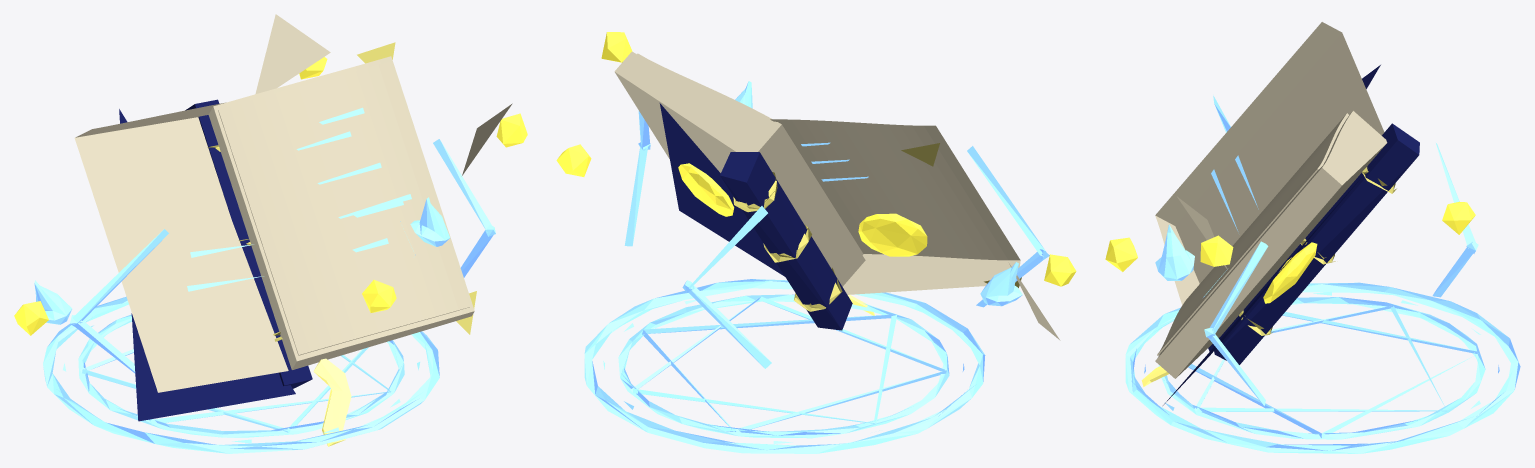
The model's file is tome_8.glb.
3 renders of one model, left to right at view 1: azimuth 30°, elevation 25°; view 2: azimuth 150°, elevation 25°; view 3: azimuth 270°, elevation 25°, orthographic.
Visible parts, largest first — view 1: Page__022, CoverL__002, CoverR__011, Circle__033, CoverL__001, Circle__034, Book__026, Orbit__050, Circle__035, Orbit__054, Book__032, Orbit__053 (+6 smaller); view 2: CoverL__002, CoverR__011, Circle__033, Book__026, Circle__034, Circle__035, CoverR__010, CoverL__030, Orbit__055, Orbit__054, CoverR__031, Orbit__053 (+5 smaller); view 3: CoverL__002, CoverR__011, Book__026, Circle__033, Circle__034, Page__022, Circle__035, Orbit__053, Orbit__051, CoverR__031, Orbit__055, Orbit__056 (+4 smaller).
Boxes of the visible parts, <box> form: Page__022: <box>218,61,470,355</box>; CoverL__002: <box>74,102,288,392</box>; CoverR__011: <box>208,56,474,369</box>; Circle__033: <box>43,296,439,453</box>; CoverL__001: <box>119,109,295,421</box>; Circle__034: <box>78,314,404,437</box>; Book__026: <box>185,99,312,388</box>; Orbit__050: <box>255,14,330,94</box>; Circle__035: <box>80,347,390,432</box>; Orbit__054: <box>70,229,168,373</box>; Book__032: <box>313,358,351,446</box>; Orbit__053: <box>433,139,495,277</box>; CoverL__002: <box>770,119,1020,294</box>; CoverR__011: <box>614,51,865,286</box>; Circle__033: <box>584,279,985,453</box>; Book__026: <box>720,152,852,330</box>; Circle__034: <box>618,294,949,438</box>; Circle__035: <box>630,296,946,433</box>; CoverR__010: <box>659,103,784,276</box>; CoverL__030: <box>858,213,927,256</box>; Orbit__055: <box>682,206,771,368</box>; Orbit__054: <box>967,146,1049,307</box>; CoverR__031: <box>678,163,734,216</box>; Orbit__053: <box>624,110,650,246</box>; CoverL__002: <box>1155,22,1384,304</box>; CoverR__011: <box>1155,111,1387,378</box>; Book__026: <box>1212,123,1419,364</box>; Circle__033: <box>1125,282,1520,453</box>; Circle__034: <box>1158,297,1485,439</box>; Page__022: <box>1157,113,1349,355</box>; Circle__035: <box>1188,305,1478,437</box>; Orbit__053: <box>1204,241,1268,405</box>; Orbit__051: <box>1155,224,1194,280</box>; CoverR__031: <box>1263,242,1317,303</box>; Orbit__055: <box>1432,143,1478,297</box>; Orbit__056: <box>1200,235,1233,266</box>.
Bounding box in the file's own units: 0.334 × 0.1892 × 0.2465.
